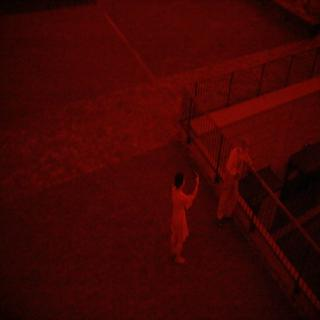person: (162, 170, 202, 278), (212, 134, 252, 221)
